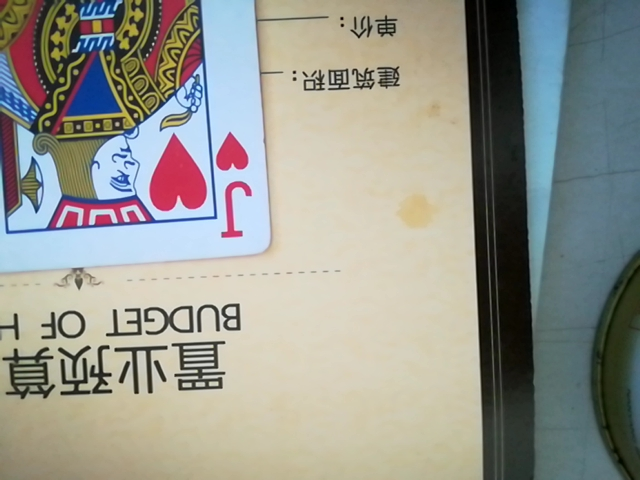hx j: (0, 0, 272, 275)
